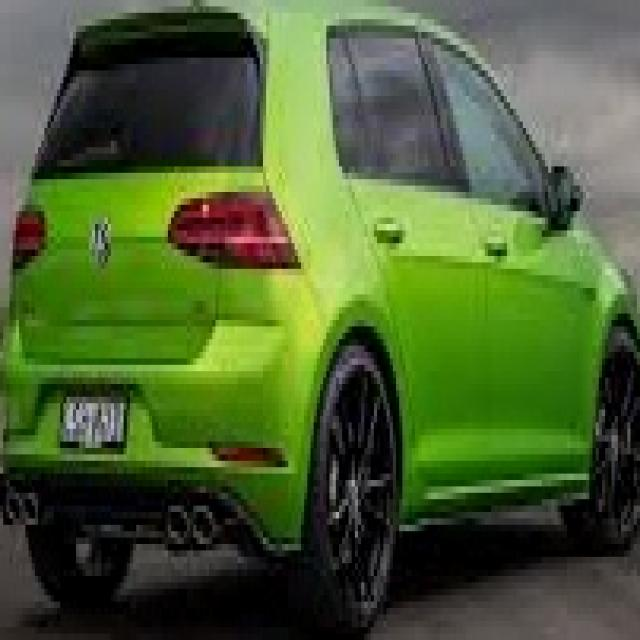green: (1, 16, 629, 640)
